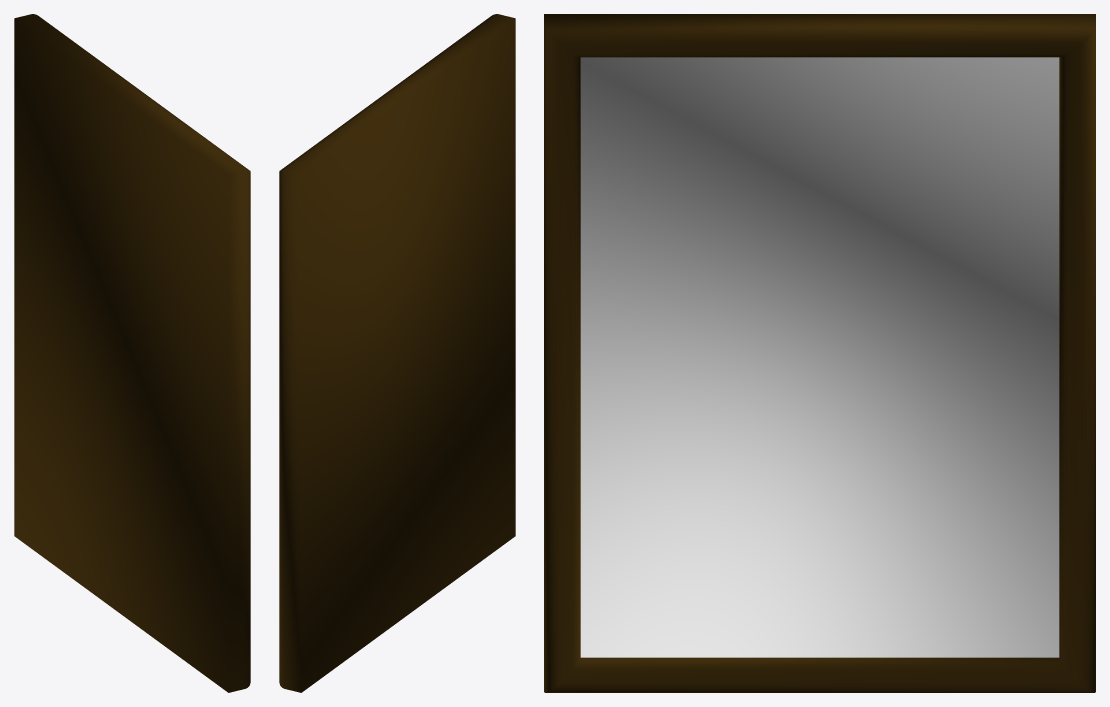
Rendered from Frame.fbx.
The picture shows the model from 3 angles, left to right: view 1: azimuth 30°, elevation 25°; view 2: azimuth 150°, elevation 25°; view 3: azimuth 270°, elevation 25°; orthographic projection. The views are drawn at different scales.
Parts seen in each view (by area): view 1: Cube; view 2: Cube; view 3: Cube.
Boxes of the visible parts, x1,y1,x2,y2 form: Cube: [14, 14, 250, 692]; Cube: [279, 14, 515, 692]; Cube: [544, 14, 1095, 692].
Size of the model in its own units: 5.14 by 100 by 75.
